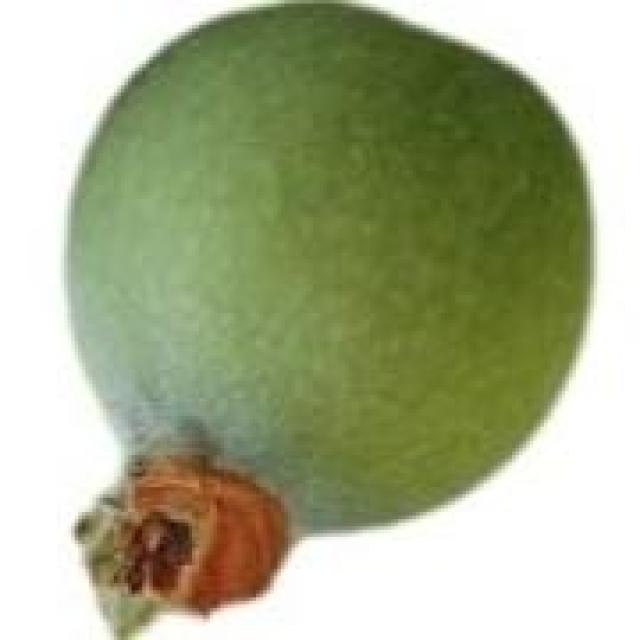Rotten Apple: (71, 6, 597, 638)
